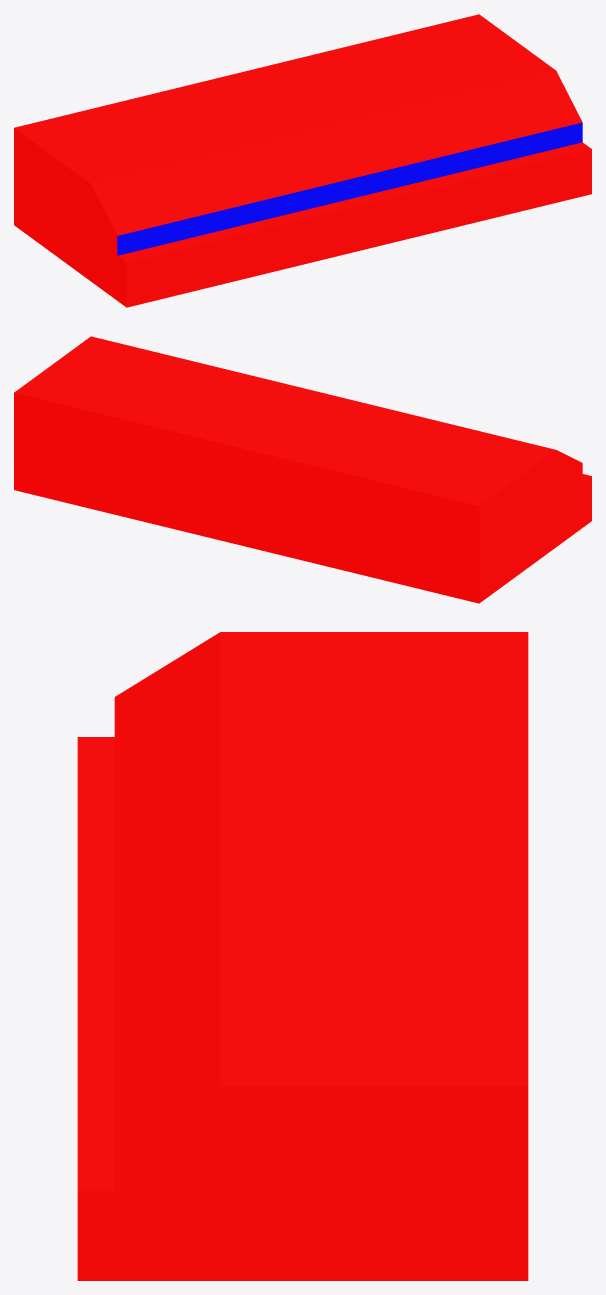
The model's file is DroneWall_WallTop_001.FBX.
The picture shows the model from 3 angles, top to bottom: view 1: azimuth 30°, elevation 25°; view 2: azimuth 150°, elevation 25°; view 3: azimuth 270°, elevation 25°; orthographic projection. The views are drawn at different scales.
Parts seen in each view (by area): view 1: WallTop; view 2: WallTop; view 3: WallTop.
Boxes of the visible parts, bbox=[...] form: WallTop: bbox=[14, 14, 591, 307]; WallTop: bbox=[14, 336, 591, 603]; WallTop: bbox=[77, 632, 528, 1280].
Size of the model in its own units: 500 by 210 by 100.
